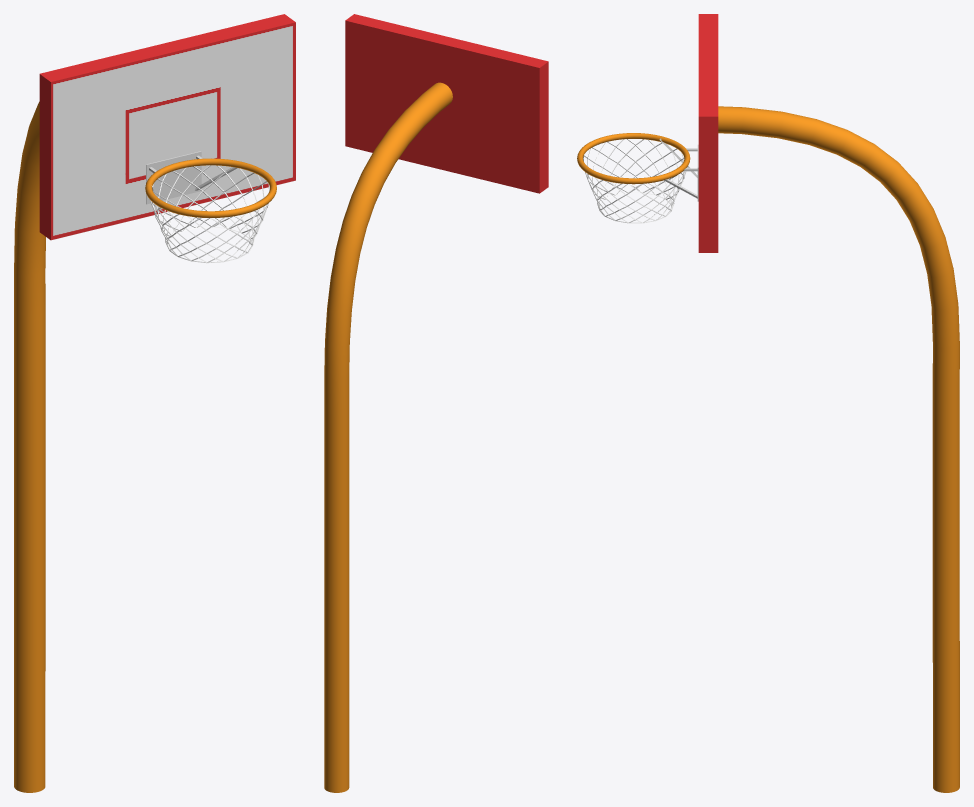
Rendered from Hoop.fbx.
The picture shows the model from 3 angles, left to right: view 1: azimuth 30°, elevation 25°; view 2: azimuth 150°, elevation 25°; view 3: azimuth 270°, elevation 25°; orthographic projection. The views are drawn at different scales.
Visible parts, largest first — view 1: Cube.311, BezierCurve.002, Cylinder.007, BezierCircle.001, Cube.312; view 2: Cube.311, BezierCurve.002; view 3: BezierCurve.002, Cube.311, Cylinder.007, BezierCircle.001.
Part boxes in pixels (x1=…): Cube.311: x1=39, y1=14, x2=295, y2=240; BezierCurve.002: x1=14, y1=101, x2=45, y2=792; Cylinder.007: x1=149, y1=165, x2=269, y2=263; BezierCircle.001: x1=145, y1=158, x2=276, y2=217; Cube.312: x1=146, y1=151, x2=201, y2=204; Cube.311: x1=345, y1=14, x2=548, y2=193; BezierCurve.002: x1=324, y1=82, x2=452, y2=792; BezierCurve.002: x1=718, y1=106, x2=959, y2=792; Cube.311: x1=698, y1=14, x2=718, y2=252; Cylinder.007: x1=583, y1=139, x2=688, y2=223; BezierCircle.001: x1=577, y1=133, x2=690, y2=184.
Size of the model in its own units: 99.12 by 325 by 156.
